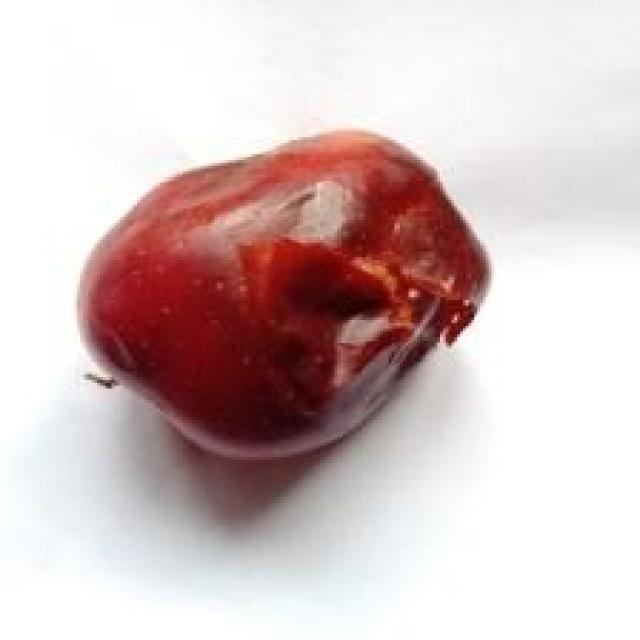rotten apple: (45, 94, 514, 552)
